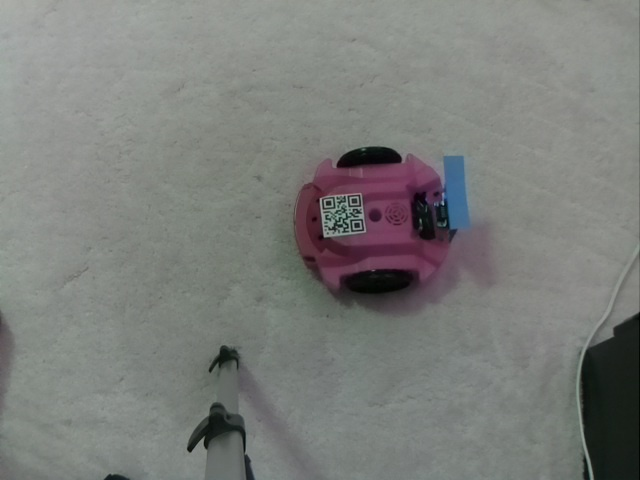chassis: (287, 144, 468, 300)
qr: (316, 191, 369, 238)
